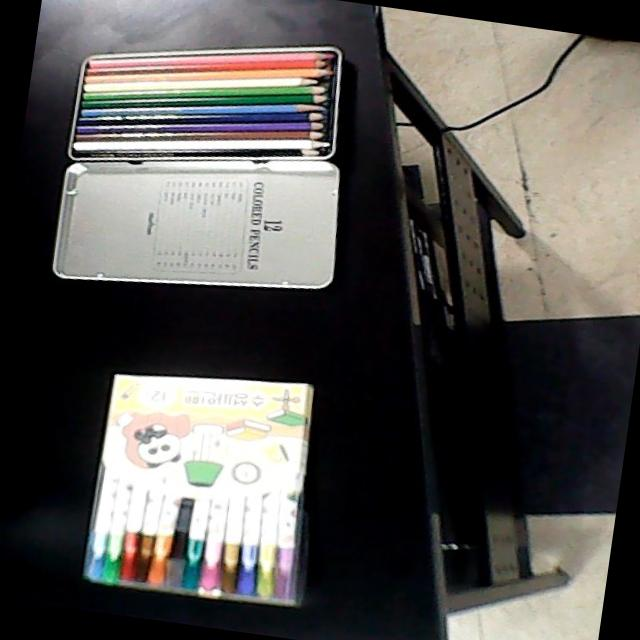color: (57, 40, 349, 162)
signpen: (75, 365, 325, 611)
